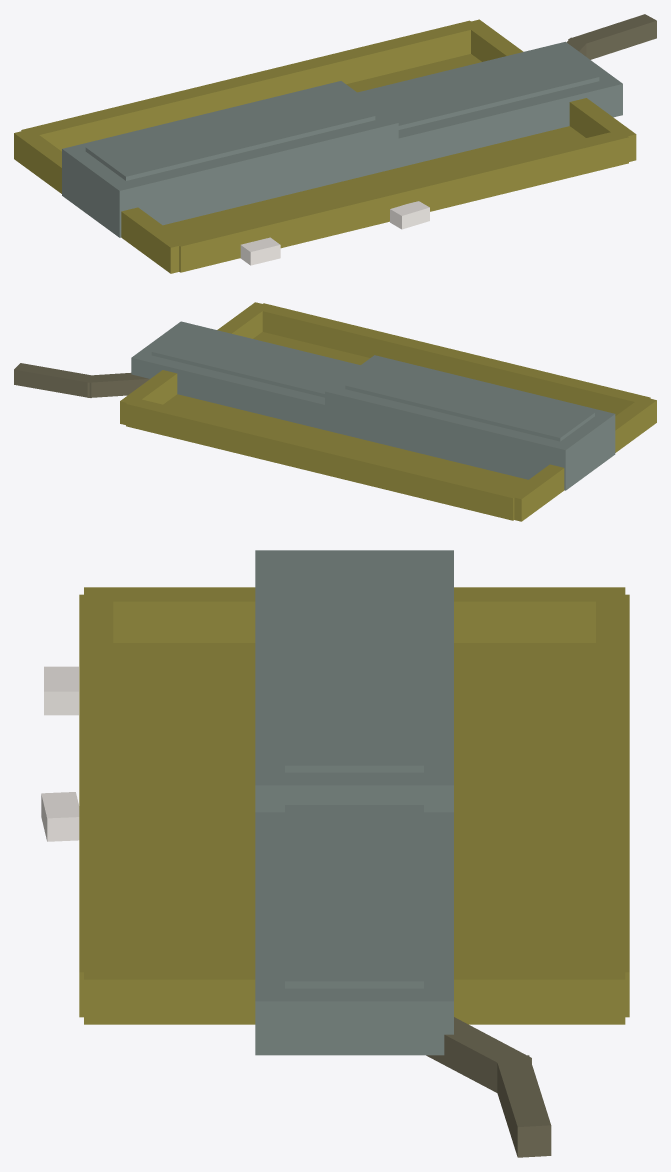
File: SM_CisternaFlexible_v4_Doble_LOD1.fbx
3 renders of one model, top to bottom at view 1: azimuth 30°, elevation 25°; view 2: azimuth 150°, elevation 25°; view 3: azimuth 270°, elevation 25°, orthographic. The views are drawn at different scales.
Parts seen in each view (by area): view 1: SM_farp_betera_v4_LOD1; view 2: SM_farp_betera_v4_LOD1; view 3: SM_farp_betera_v4_LOD1.
Boxes of the visible parts, x1=… form: SM_farp_betera_v4_LOD1: x1=14, y1=14, x2=656, y2=273; SM_farp_betera_v4_LOD1: x1=14, y1=302, x2=656, y2=521; SM_farp_betera_v4_LOD1: x1=41, y1=550, x2=629, y2=1157.
Size of the model in its own units: 12.31 by 1.09 by 5.92.
